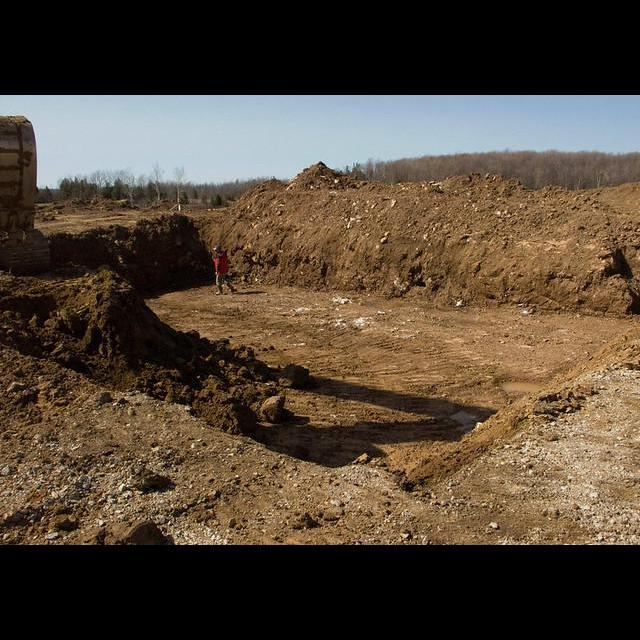Excavator: (0, 94, 53, 268)
Hardhat: (214, 246, 221, 250)
NO-Safety Vest: (215, 254, 229, 273)
Person: (213, 245, 237, 294)
